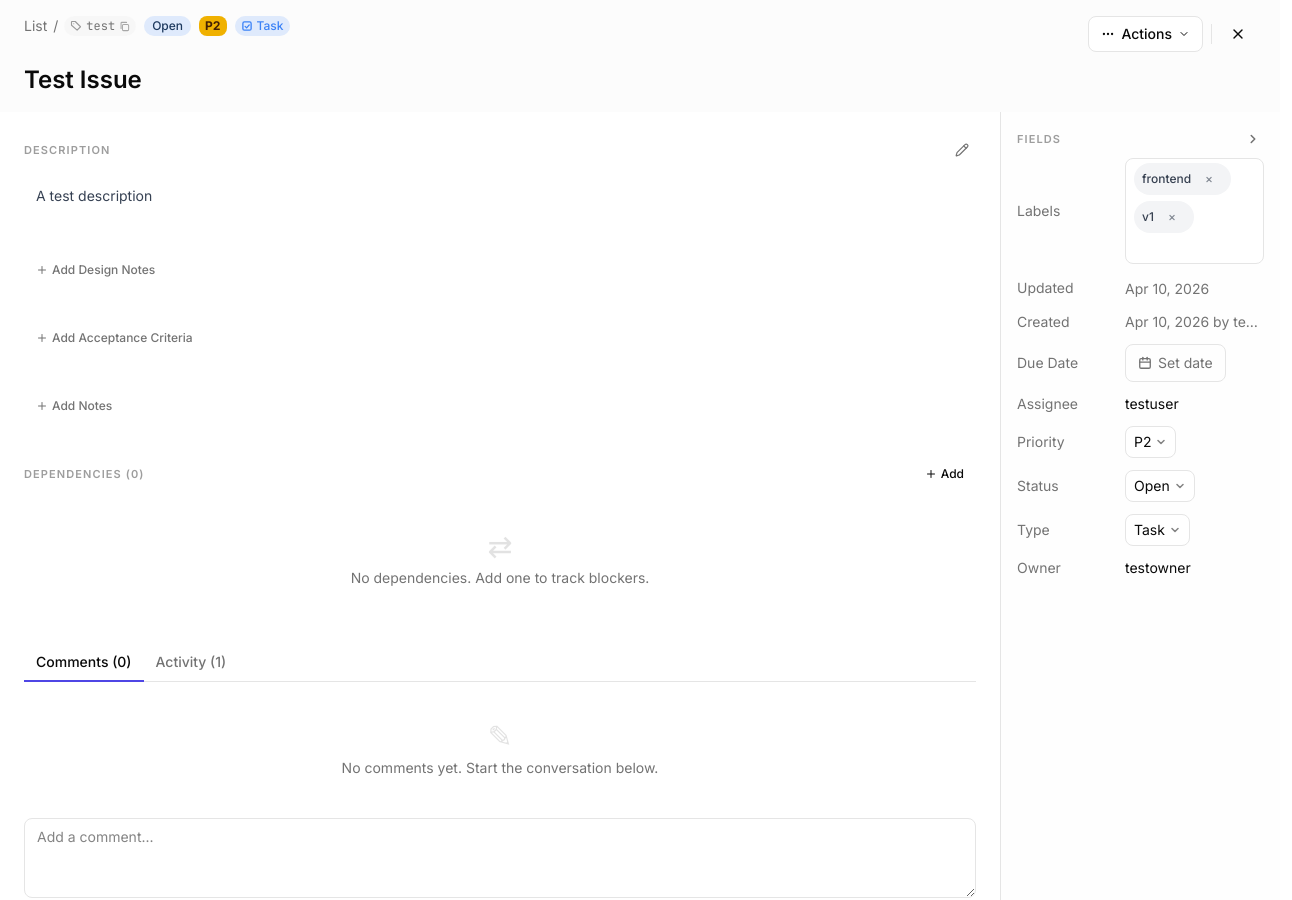
Test case: DetailView › renders events in activity timeline
# Activate the Activity tab so its panel content is visible.
Click the tab "Activity (1)".
click(191, 663)  # box [144,644,238,682]
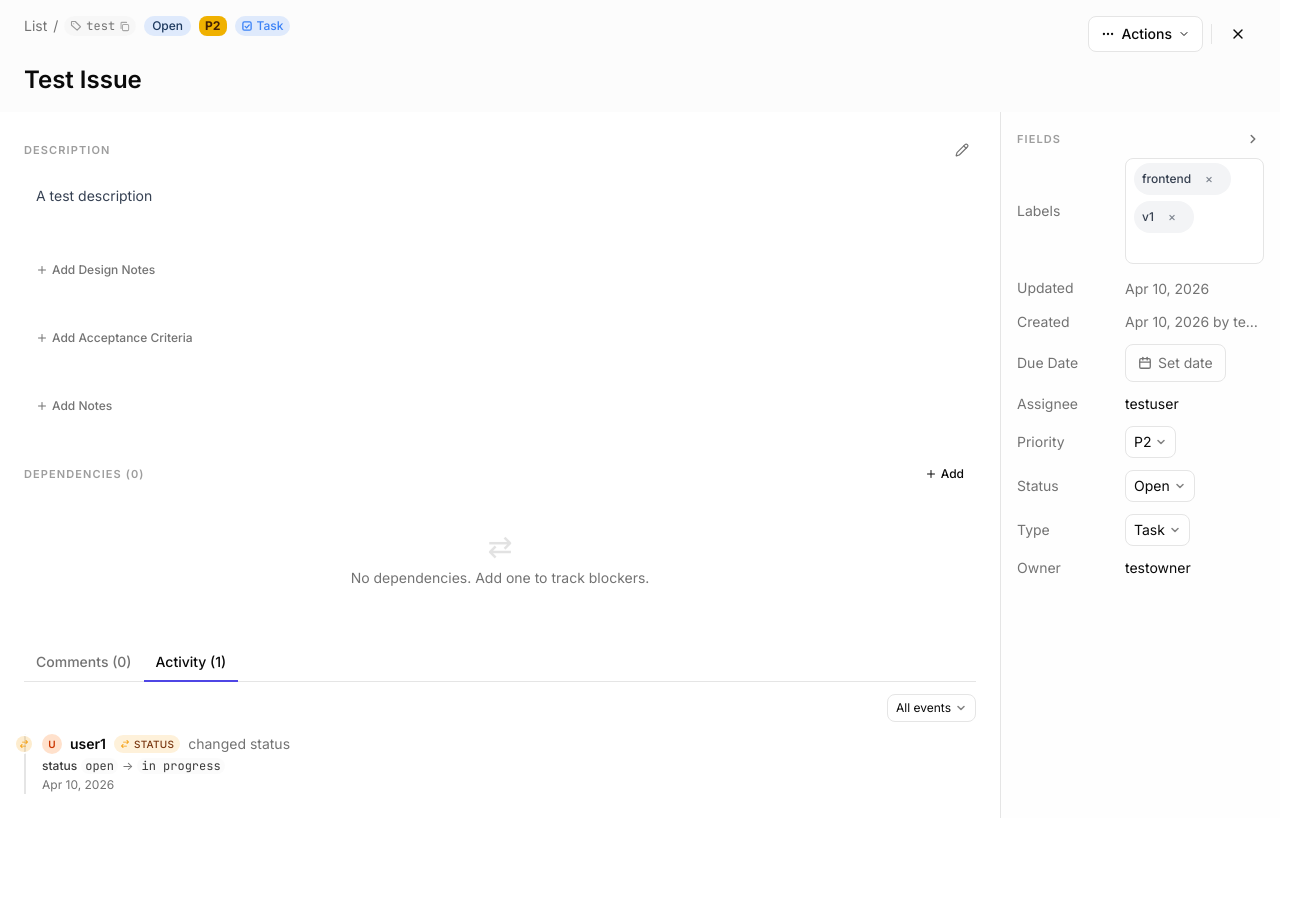
Now the text "user1" is shown, box [70,734,106,754]
